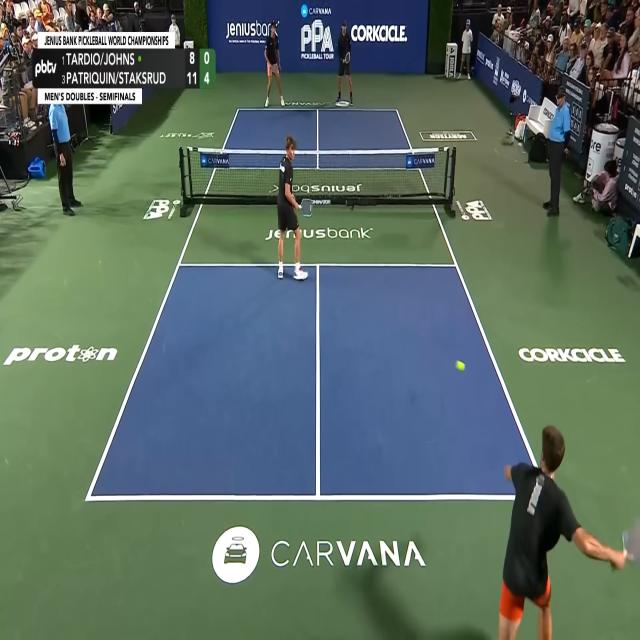ball: (455, 360, 466, 371)
